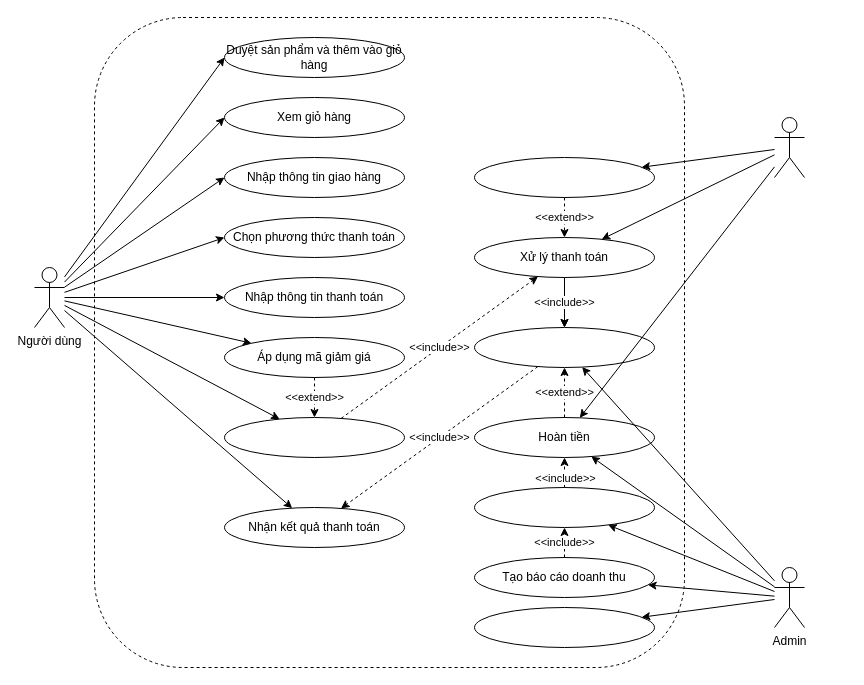
This 864x685 diagram has some shape labels left out. Here are the shapes that lost their labels. From the top down, the centre of each, then its label:
At (x=789, y=147): "Hệ thống Thanh toán (Payment Gateway)".
At (x=564, y=177): "Xử lý thanh toán thất bại".
At (x=564, y=347): "Cập nhật trạng thái đơn hàng".
At (x=314, y=437): "Xác nhận thanh toán".
At (x=564, y=507): "Quản lý đơn hàng".
At (x=564, y=627): "Cấu hình phương thức thanh toán".
